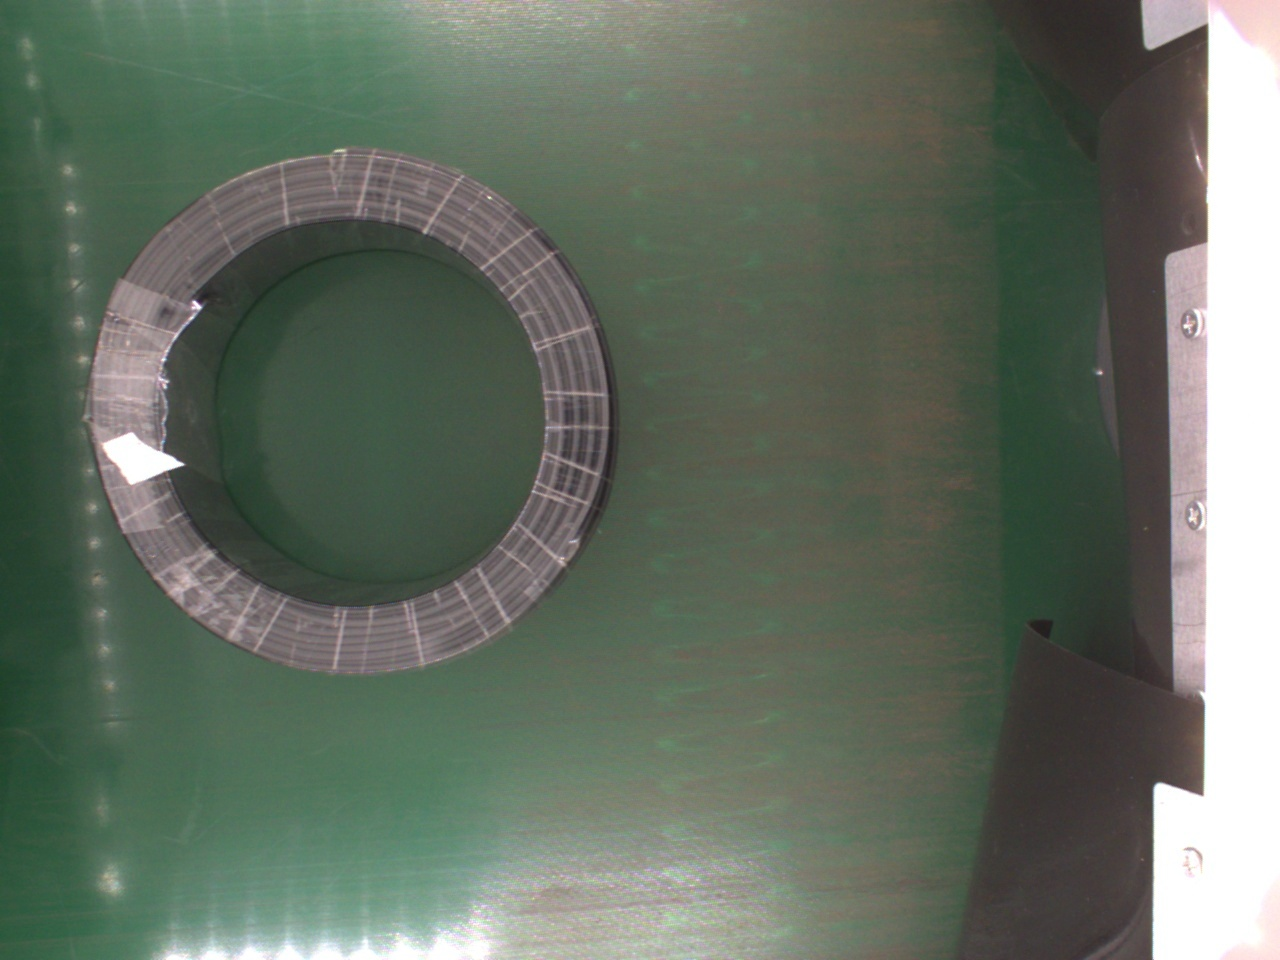black: (85, 147, 618, 676)
